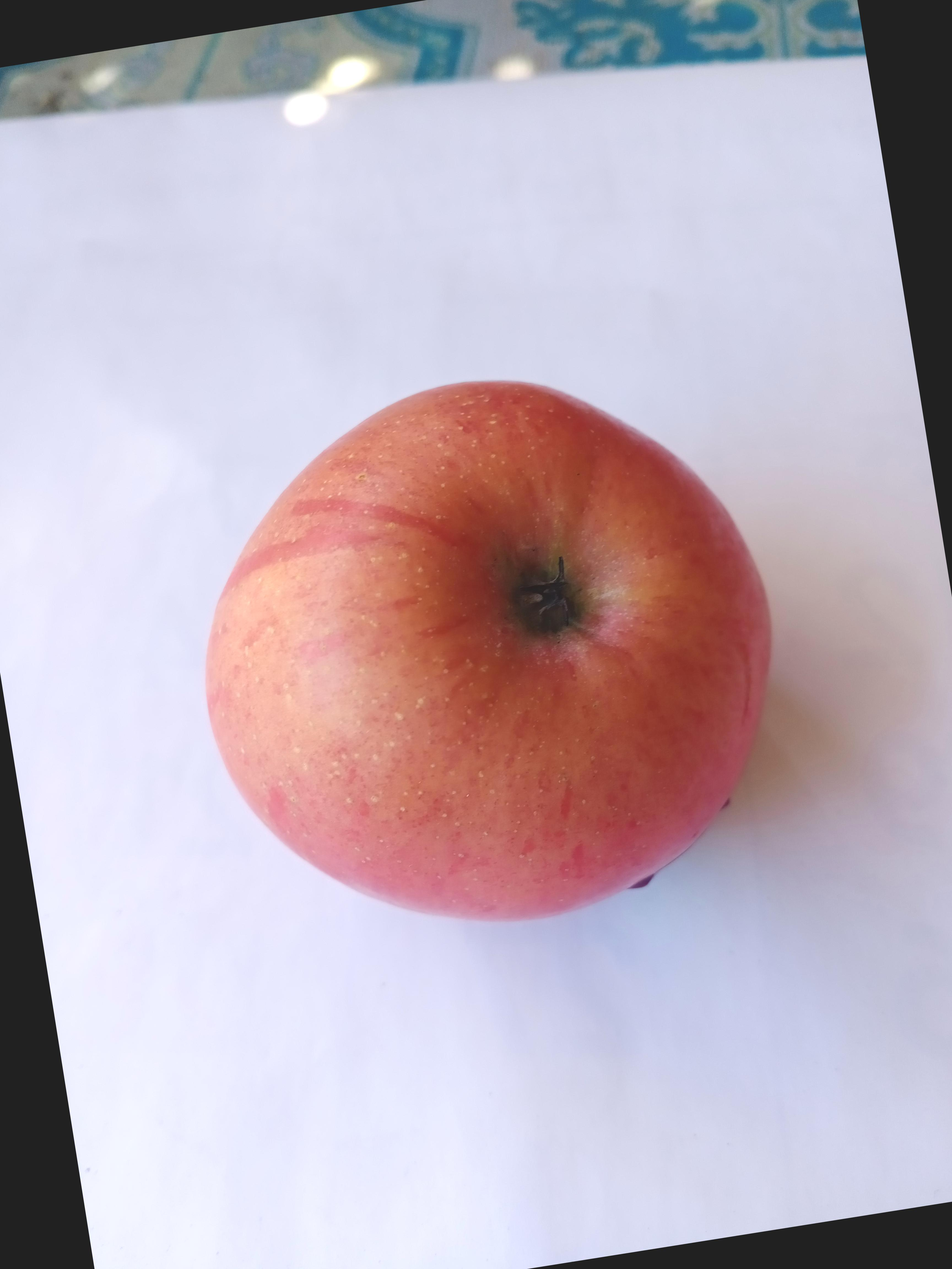Apple Ripe: (15, 412, 725, 1102)
